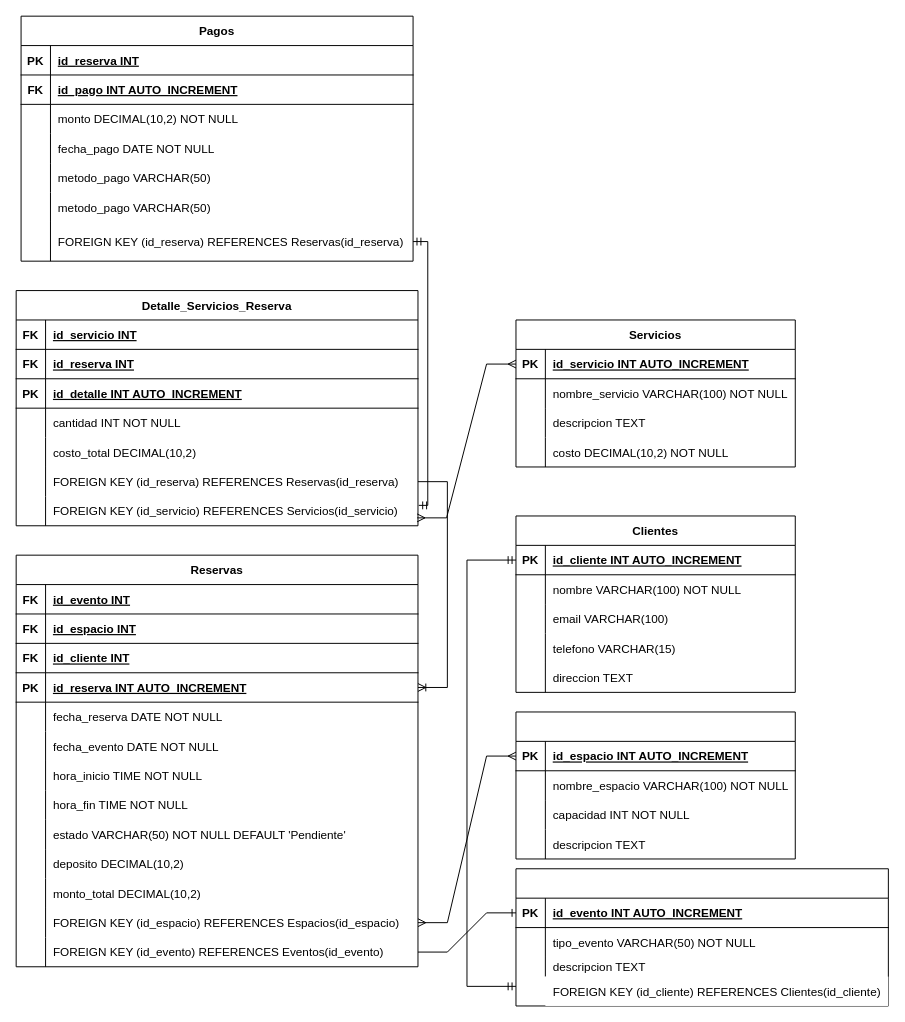
This 905x1022 diagram has some shape labels left out. The shapes that lost their labels are listed below. From the top down, each one's box as (x1, y1, x2, y2) in pixels, then its label:
(515, 711, 795, 859): Espacios
(515, 868, 888, 1006): Eventos
